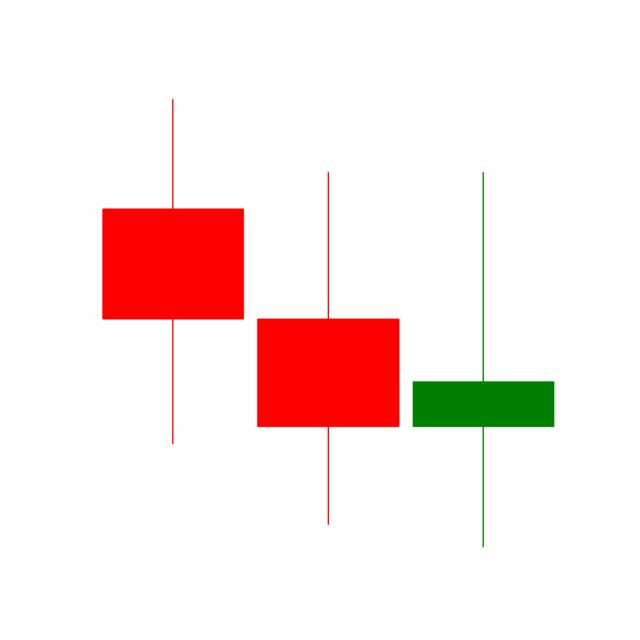Spinning Top: (405, 168, 561, 552)
